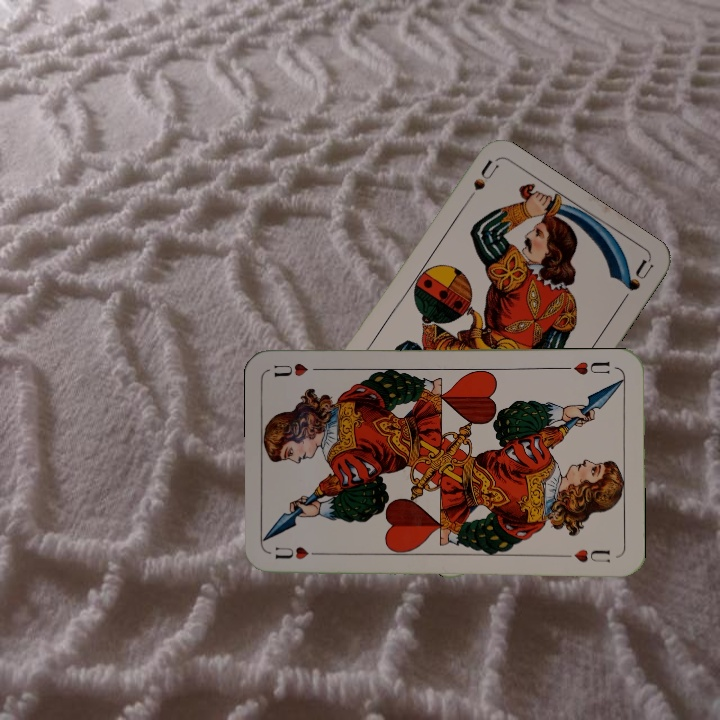HU: (271, 543, 329, 562), (559, 357, 612, 377)
SU: (458, 156, 501, 211)
